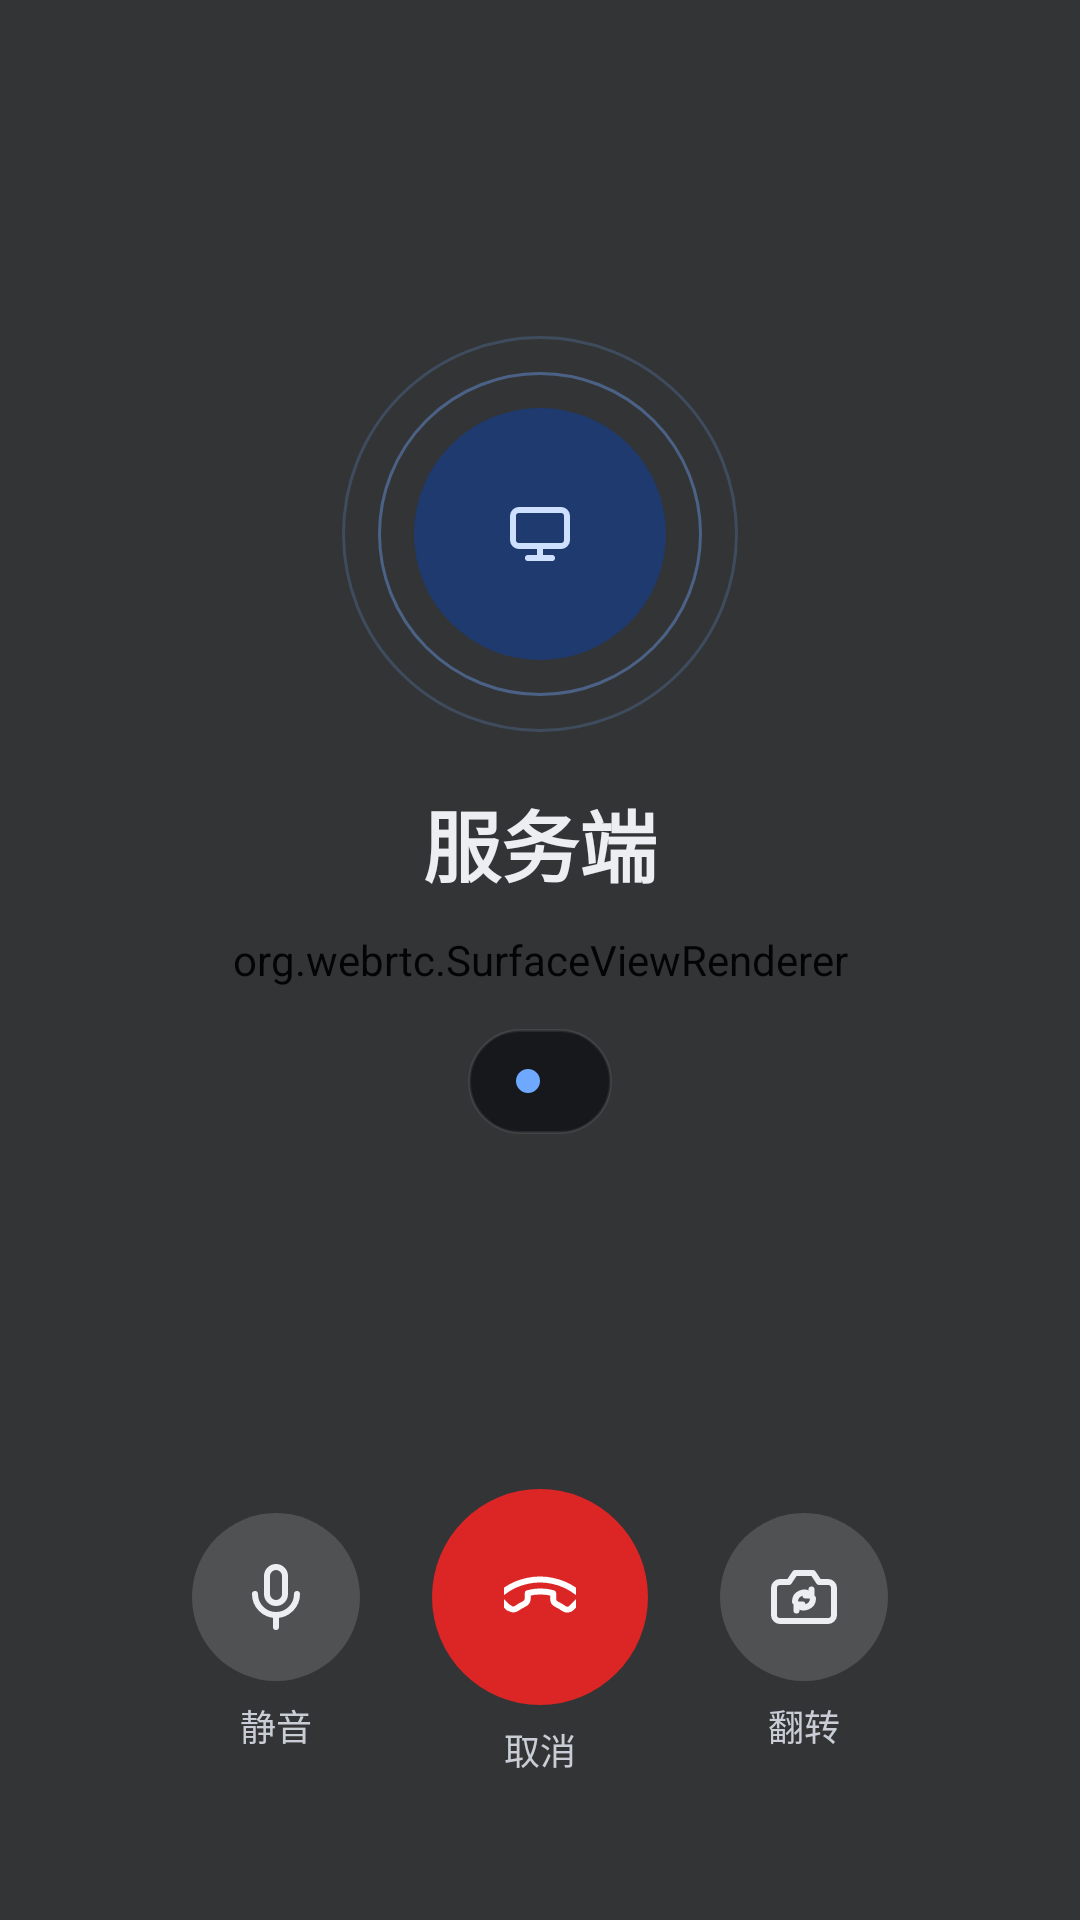

Named icons in this screenshot (1080×1920) and their bounding boxes, (x1, y1, x2, y2):
monitor: (414, 408, 666, 660)
